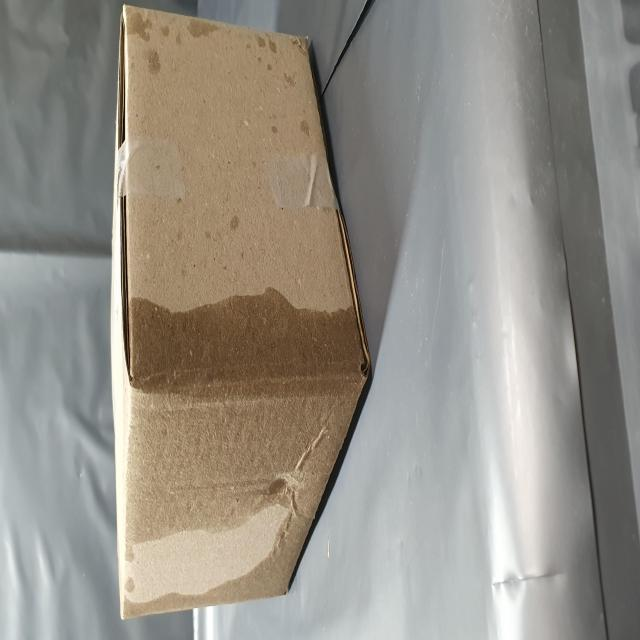wet: (23, 217, 193, 640), (307, 229, 353, 340)
